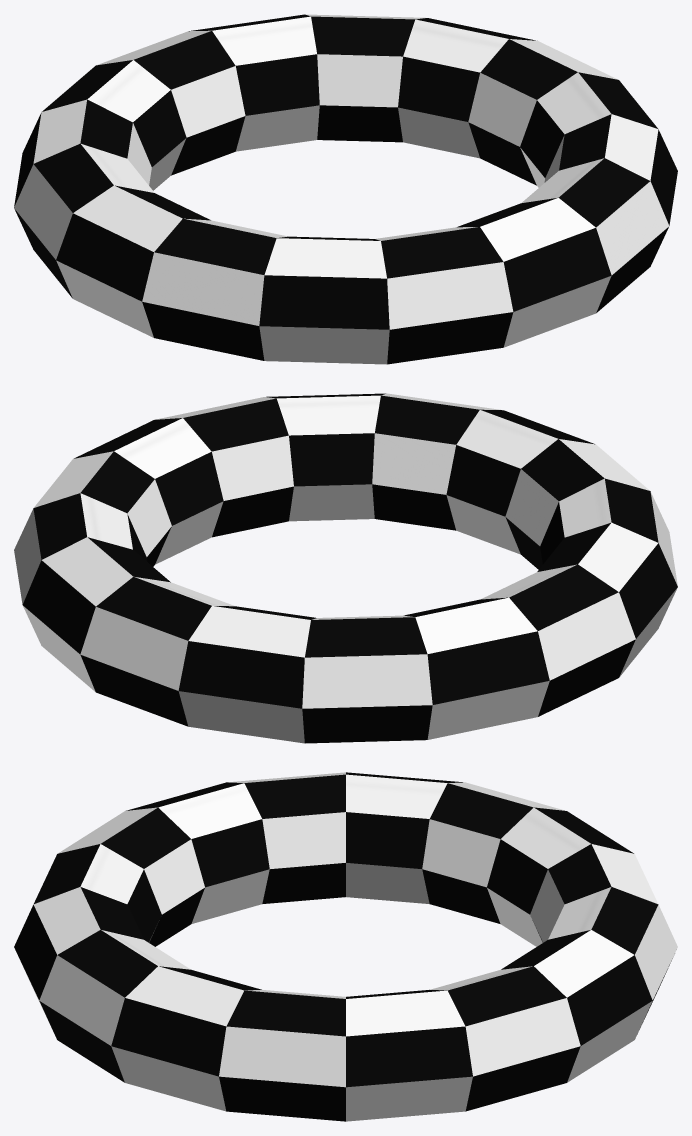
File: Dounut.fbx
3 renders of one model, top to bottom at view 1: azimuth 30°, elevation 25°; view 2: azimuth 150°, elevation 25°; view 3: azimuth 270°, elevation 25°, orthographic.
Visible parts, largest first — view 1: Torus.001; view 2: Torus.001; view 3: Torus.001.
Boxes of the visible parts, x1,y1,x2,y2 form: Torus.001: (14, 14, 677, 364); Torus.001: (14, 393, 677, 743); Torus.001: (14, 772, 677, 1121).
Size of the model in its own units: 250 by 50 by 250.
Materials: 1 (1 with a texture image).
